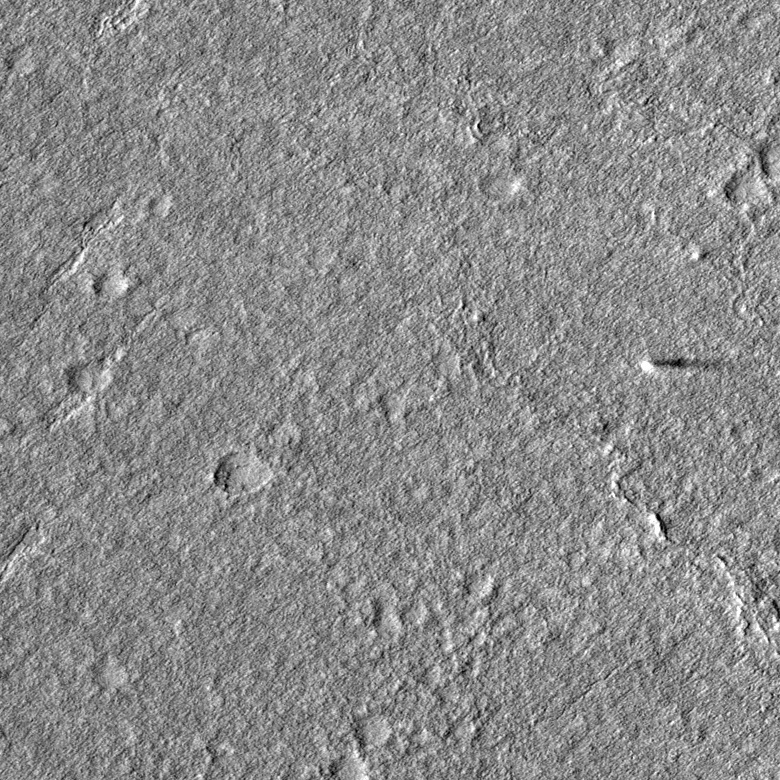dust_devil: (640, 356, 725, 374)
